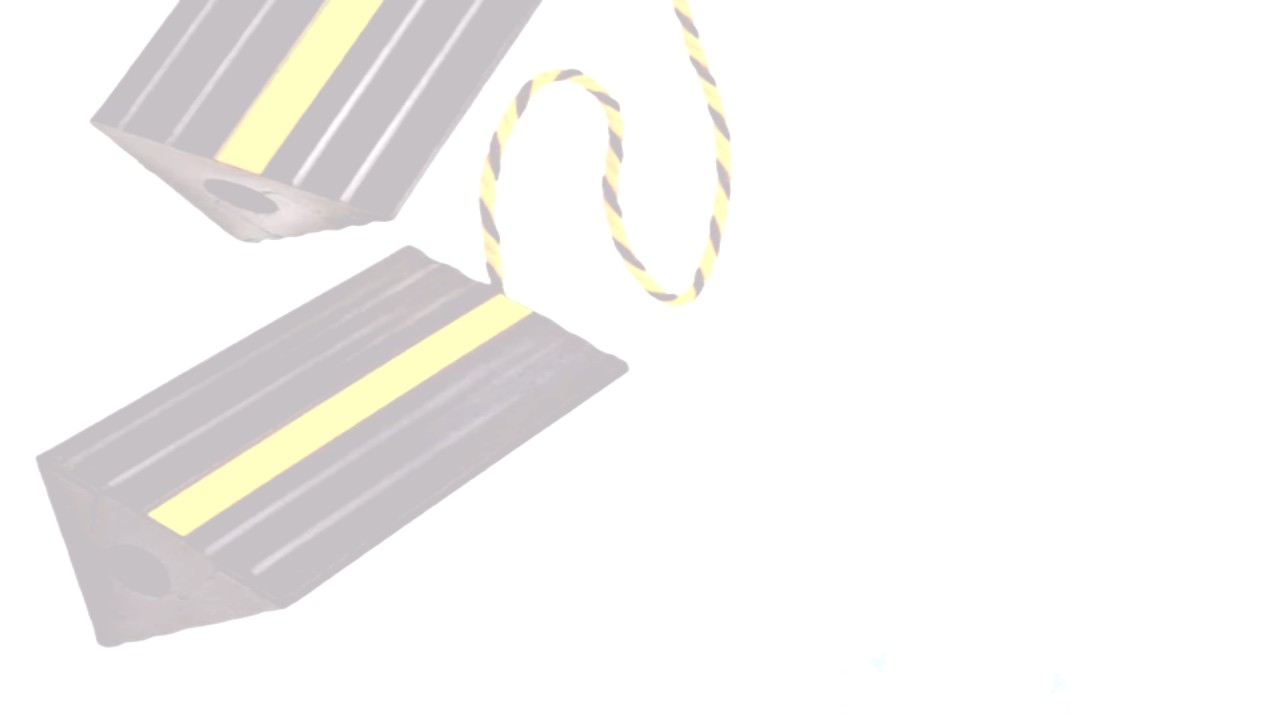chock: (0, 203, 668, 712), (60, 0, 674, 278)
